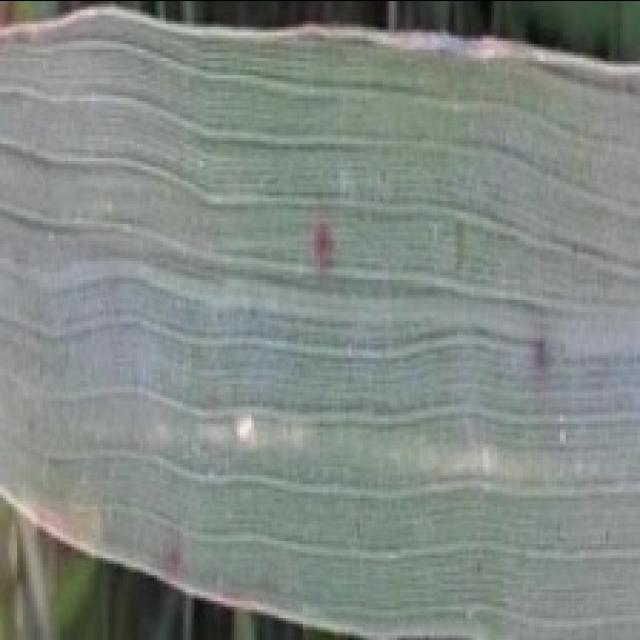Unhealthy: (157, 535, 206, 589), (309, 216, 340, 271), (532, 334, 552, 376)
